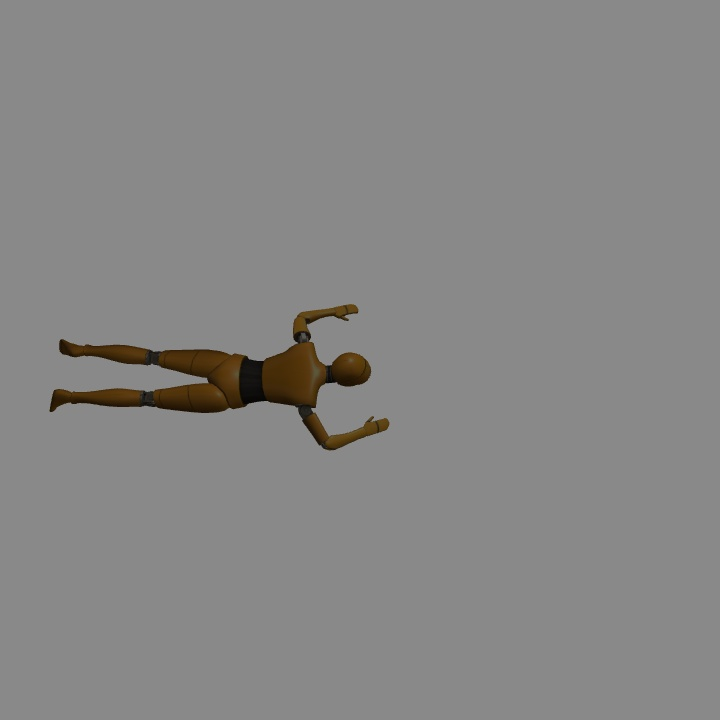victim: (50, 334, 390, 444)
